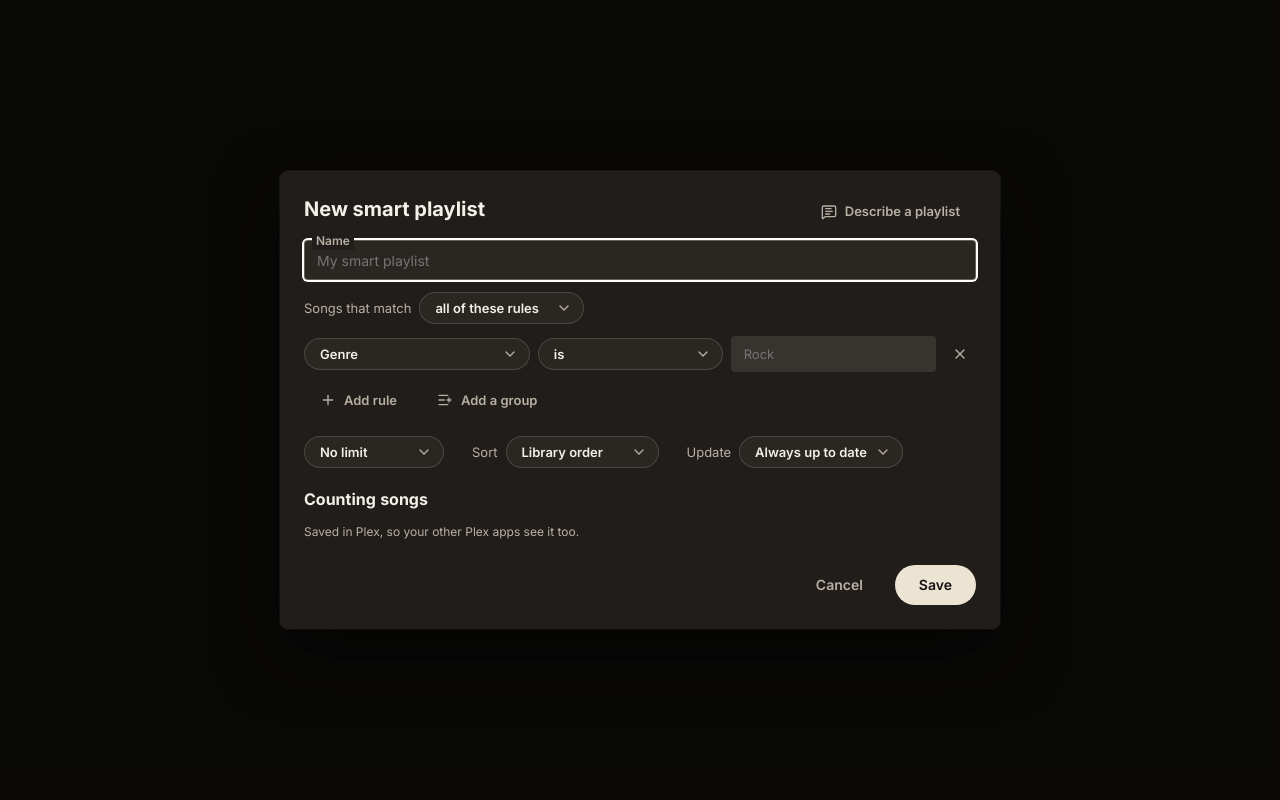
Test: describe a playlist › opens from the smart playlist editor too
The width and height of the screenshot is (1280, 800).
Click the button "Describe a playlist" at (890, 212), box [805,196,976,228]
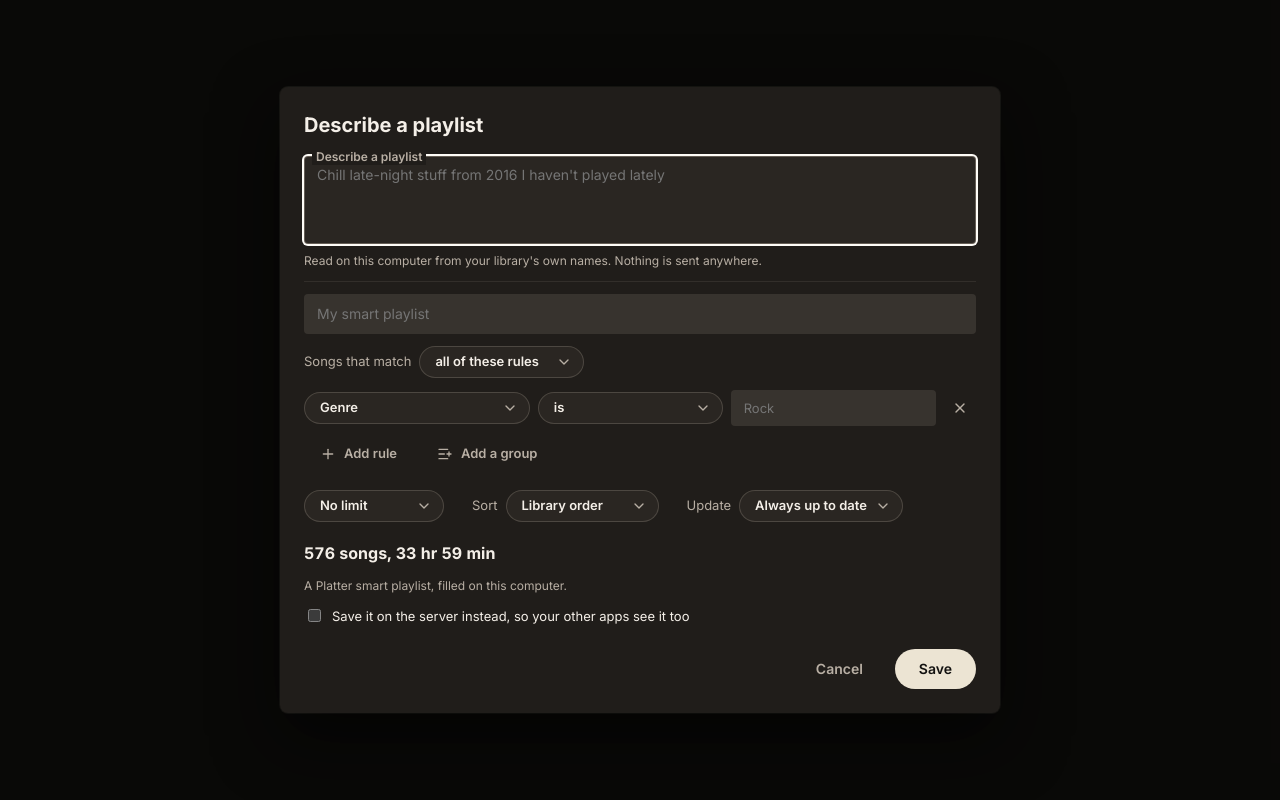
Expected: the text box labelled "Describe a playlist" is shown, [304,156,976,244]
